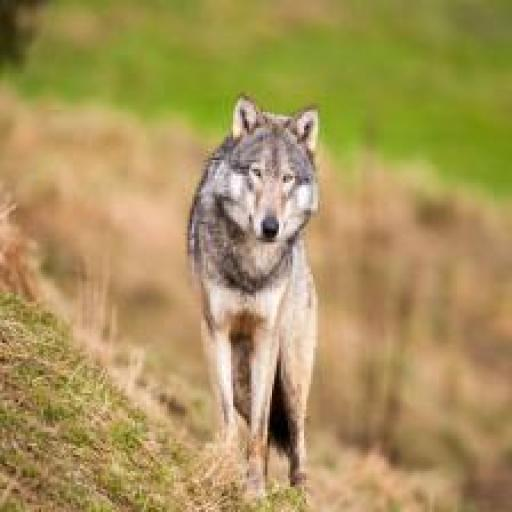wolf: (178, 98, 345, 501)
